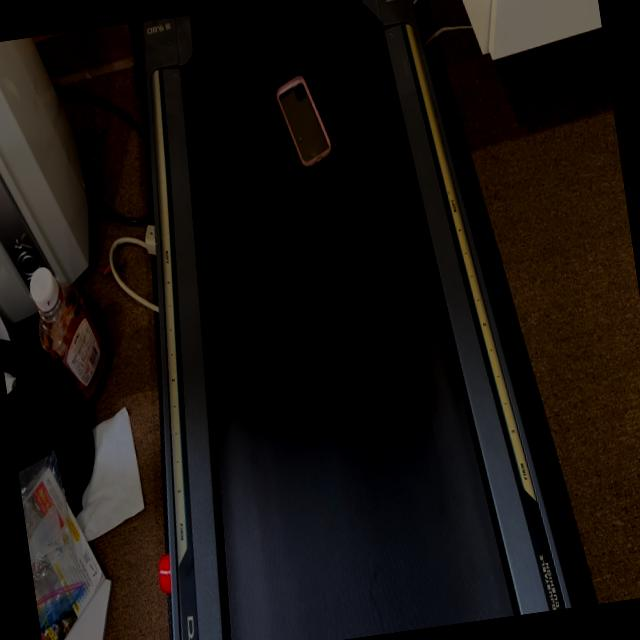Trash: (272, 66, 338, 178)
